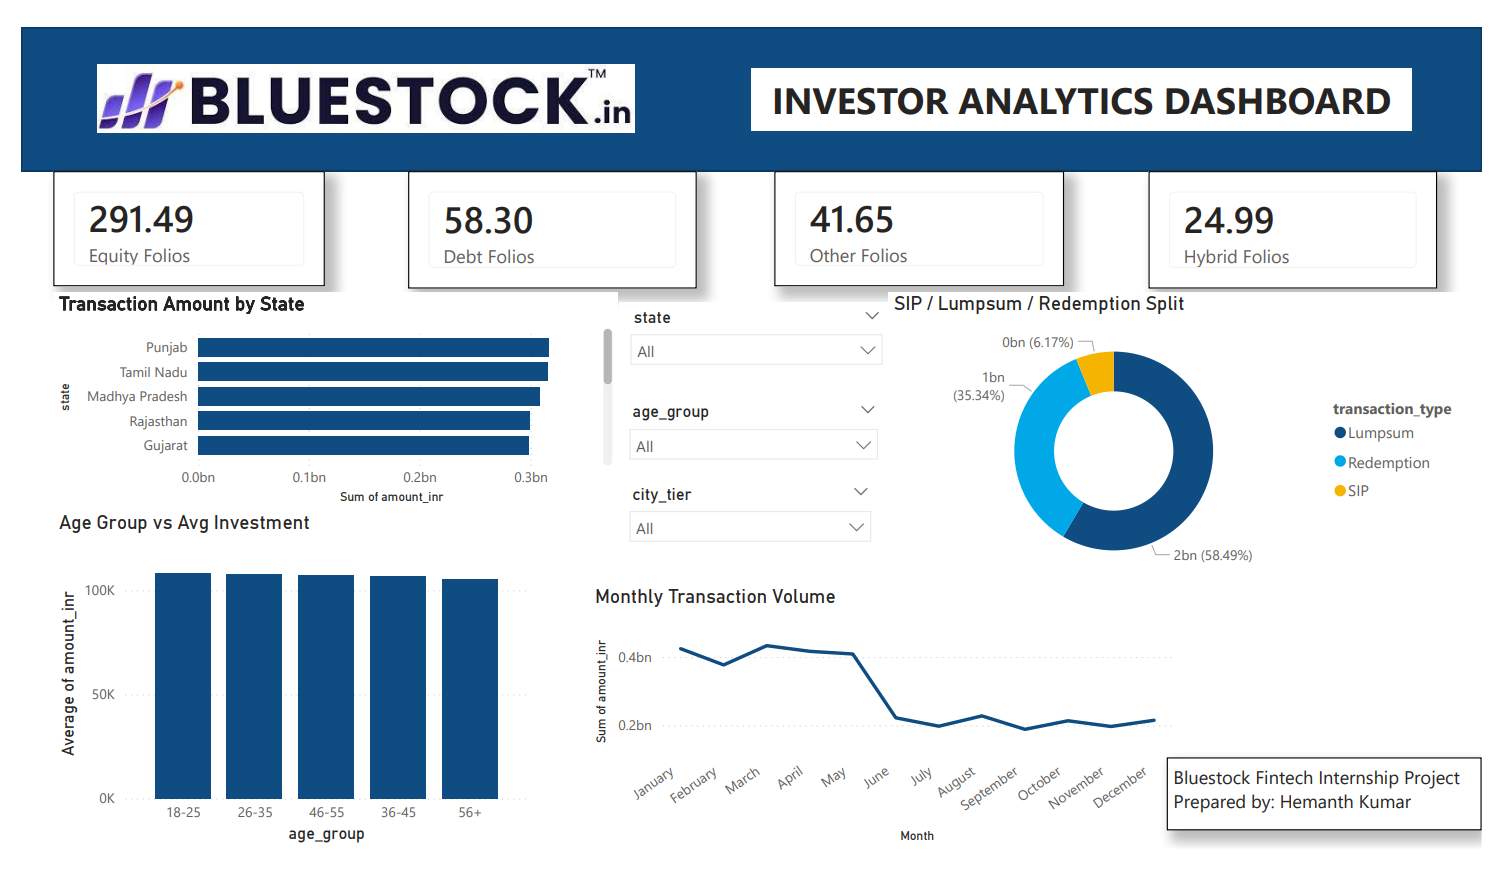

This screenshot's page, from the dashboard's own definition file:
{"tool":"powerbi","page":{"name":"Investor Analytics","canvas":[1280,720],"ordinal":2},"visuals":[{"type":"shape","box":[0,0,1280.3,126],"z":0},{"type":"textbox","box":[640.1,36.2,579.3,55],"z":1000},{"type":"cardVisual","fields":{"Data":["Sum(06_industry_folio_count.equity_folios_crore)"]},"box":[27.5,126,239,101.4],"z":2000},{"type":"cardVisual","fields":{"Data":["Sum(06_industry_folio_count.debt_folios_crore)"]},"box":[338.9,126,253.5,102.8],"z":3000},{"type":"cardVisual","fields":{"Data":["Sum(06_industry_folio_count.hybrid_folios_crore)"]},"box":[987.7,126,253.5,102.8],"z":4000},{"type":"cardVisual","fields":{"Data":["Sum(06_industry_folio_count.others_folios_crore)"]},"box":[660.4,126,253.5,101.4],"z":5000},{"type":"clusteredBarChart","title":"Transaction Amount by State","fields":{"Category":["08_investor_transactions.state"],"Y":["Sum(08_investor_transactions.amount_inr)"]},"box":[27.5,231.7,495.3,191.2],"z":6000},{"type":"donutChart","title":"SIP / Lumpsum / Redemption Split","fields":{"Category":["08_investor_transactions.transaction_type"],"Y":["Sum(08_investor_transactions.amount_inr)"]},"box":[760.4,231.7,513.3,260.7],"z":7000},{"type":"clusteredColumnChart","title":"Age Group vs Avg Investment","fields":{"Category":["08_investor_transactions.age_group"],"Y":["Avg(08_investor_transactions.amount_inr)"]},"box":[27.5,424.4,421.5,295.5],"z":8000},{"type":"lineChart","title":"Monthly Transaction Volume","fields":{"Category":["08_investor_transactions.transaction_date.Variation.Date Hierarchy.Month"],"Y":["Sum(08_investor_transactions.amount_inr)"]},"box":[497.5,488.8,515,231.2],"z":9000},{"type":"slicer","fields":{"Values":["08_investor_transactions.state"]},"box":[523.8,241.2,241.2,67.5],"z":10000},{"type":"slicer","fields":{"Values":["08_investor_transactions.age_group"]},"box":[522.5,323.8,238.8,72.5],"z":11000},{"type":"slicer","fields":{"Values":["08_investor_transactions.city_tier"]},"box":[522.5,396.2,232.5,70],"z":12000},{"type":"textbox","box":[1003.8,640,276.2,63.8],"z":13000}]}

Visuals, with their boxes in screenshot pixels (x1, y1, x2, y2), scaled from the page's 1280x720 canvas onto the 1505x872 screenshot:
shape: <bbox>0, 0, 1504, 153</bbox>
textbox: <bbox>753, 44, 1434, 110</bbox>
cardVisual - Sum(06_industry_folio_count.equity_folios_crore): <bbox>32, 153, 313, 275</bbox>
cardVisual - Sum(06_industry_folio_count.debt_folios_crore): <bbox>398, 153, 697, 277</bbox>
cardVisual - Sum(06_industry_folio_count.hybrid_folios_crore): <bbox>1161, 153, 1459, 277</bbox>
cardVisual - Sum(06_industry_folio_count.others_folios_crore): <bbox>776, 153, 1075, 275</bbox>
"Transaction Amount by State" clusteredBarChart: <bbox>32, 281, 615, 512</bbox>
"SIP / Lumpsum / Redemption Split" donutChart: <bbox>894, 281, 1498, 596</bbox>
"Age Group vs Avg Investment" clusteredColumnChart: <bbox>32, 514, 528, 871</bbox>
"Monthly Transaction Volume" lineChart: <bbox>585, 592, 1190, 871</bbox>
slicer - 08_investor_transactions.state: <bbox>616, 292, 899, 374</bbox>
slicer - 08_investor_transactions.age_group: <bbox>614, 392, 895, 480</bbox>
slicer - 08_investor_transactions.city_tier: <bbox>614, 480, 888, 565</bbox>
textbox: <bbox>1180, 775, 1504, 852</bbox>
